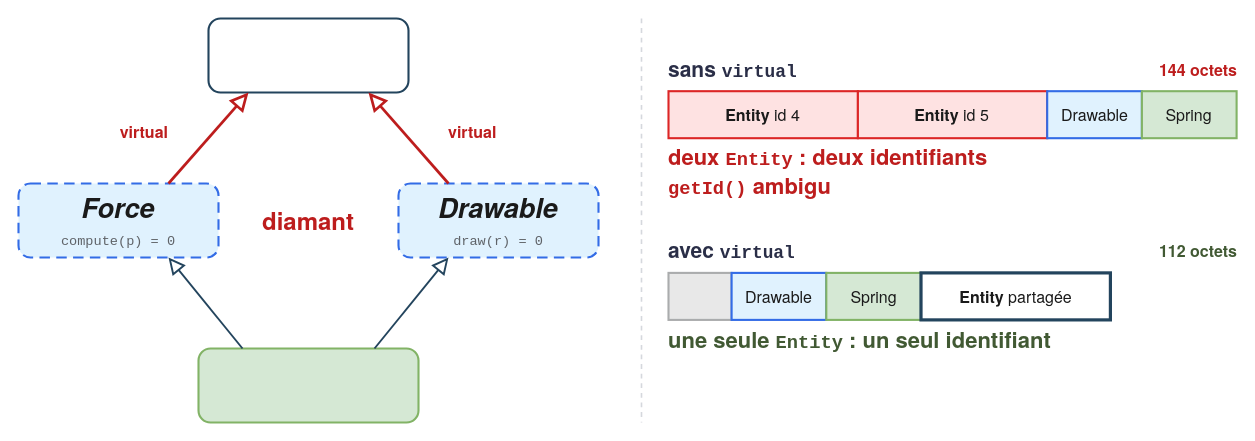
Image size: 1255x441. Some labels were removed from this diagram. The shapes that lost their labels are listed below. From the top down, each one's centre as x and y in pixels, then its label:
At point 308,55: "Entity id, name".
At point 699,295: "vptr".
At point 308,385: "Spring une force qui se dessine".
